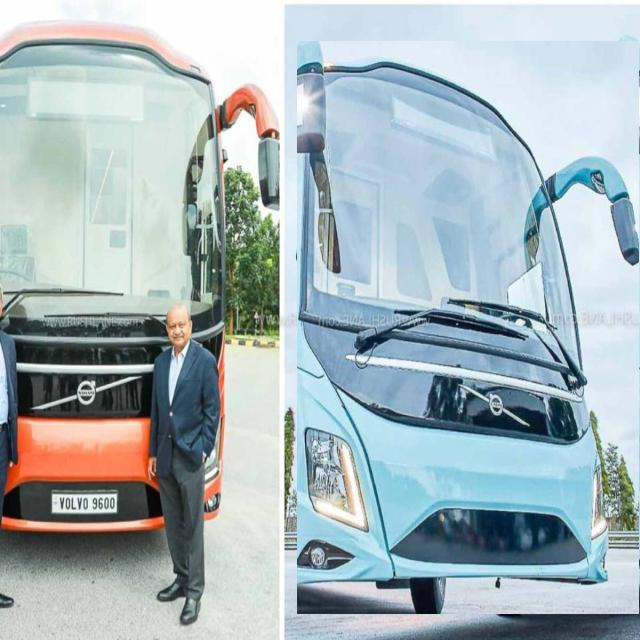bus: (298, 42, 639, 614), (0, 23, 279, 532)
